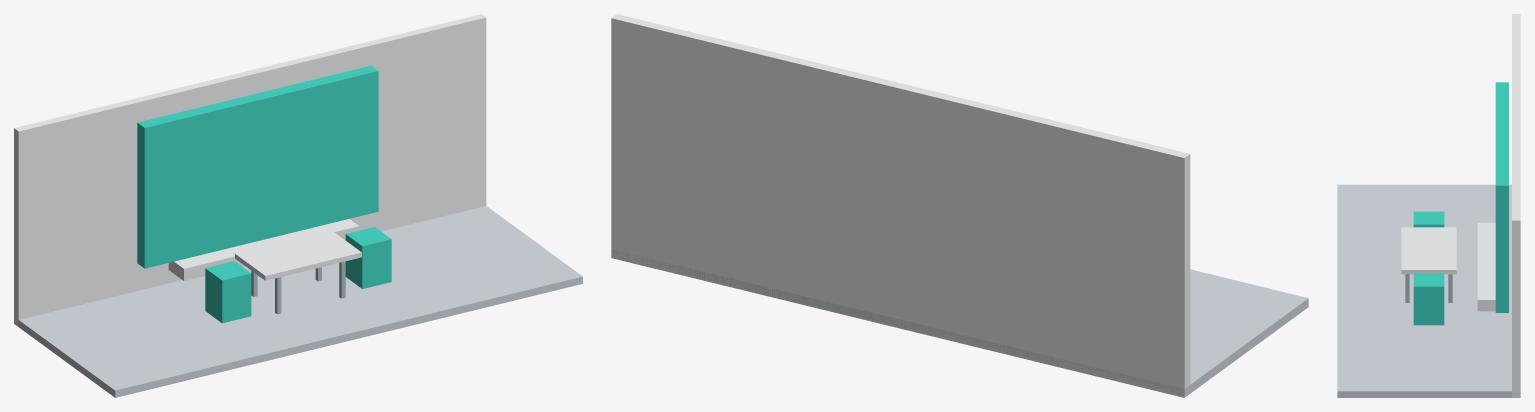
3 views of the same model, side by side, from view 1: azimuth 30°, elevation 25°; view 2: azimuth 150°, elevation 25°; view 3: azimuth 270°, elevation 25° (orthographic). The views are drawn at different scales.
Parts seen in each view (by area): view 1: Exhibition Booth Concept; view 2: Exhibition Booth Concept; view 3: Exhibition Booth Concept.
Boxes of the visible parts, box(x1,y1,x2,y2) form: Exhibition Booth Concept: box(14, 14, 582, 397); Exhibition Booth Concept: box(611, 14, 1308, 397); Exhibition Booth Concept: box(1337, 14, 1520, 397).
Bounding box in the file's own units: 8 × 3.2 × 3.
